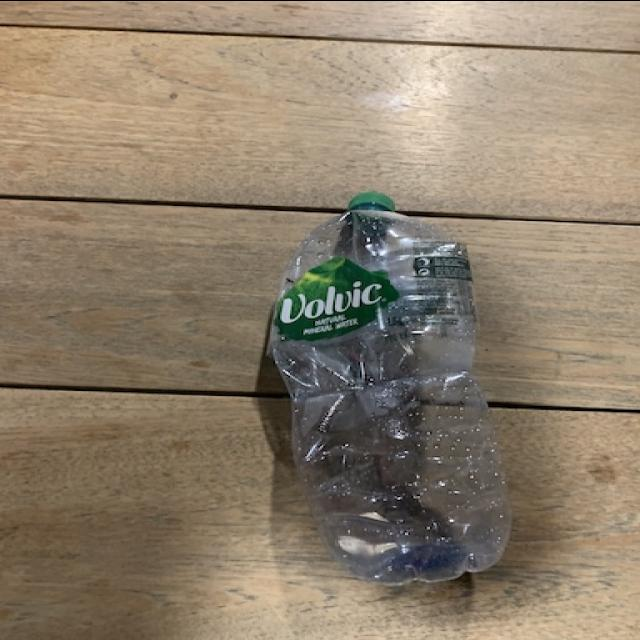litter: (265, 193, 515, 586)
